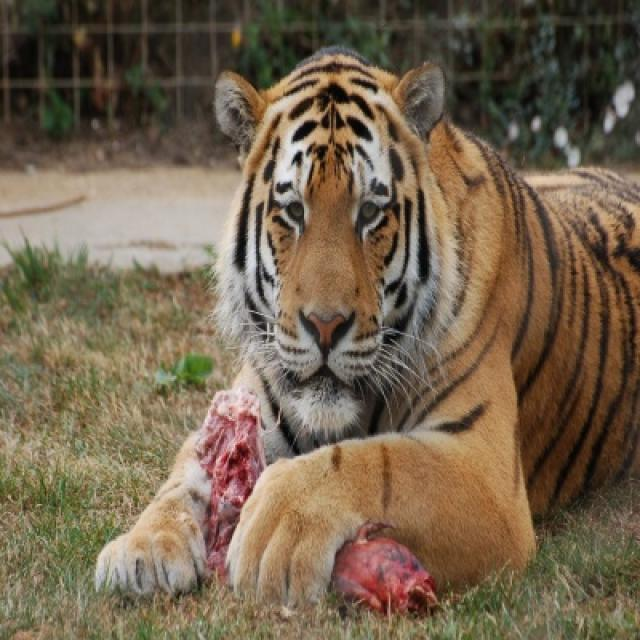Tiger: (90, 50, 638, 621)
